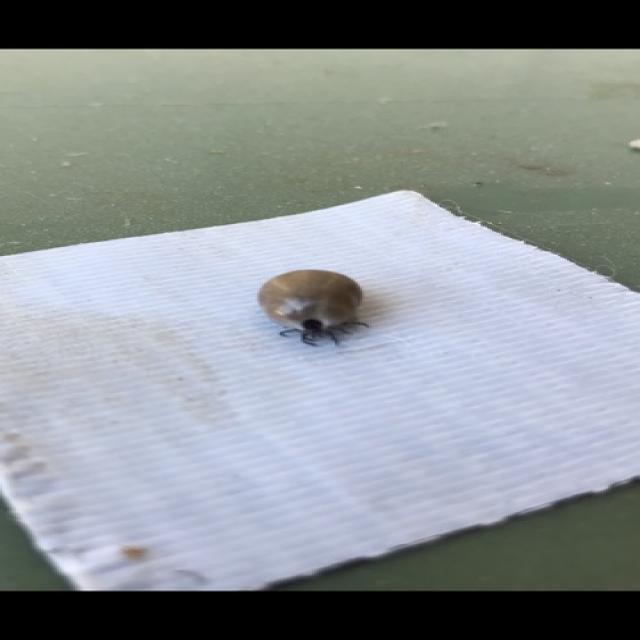Ixodes Ricinus-F-Fed: (257, 270, 369, 349)
